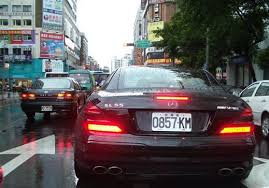LP: (151, 111, 193, 132), (40, 106, 52, 111)
